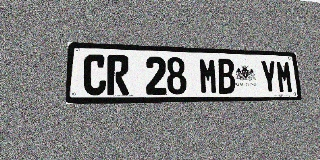2: (146, 56, 167, 95)
8: (166, 57, 187, 94)
B: (217, 59, 236, 94)
C: (83, 54, 106, 95)
M: (198, 58, 218, 94), (276, 60, 294, 93)
R: (107, 55, 129, 95)
Y: (260, 60, 278, 93)
